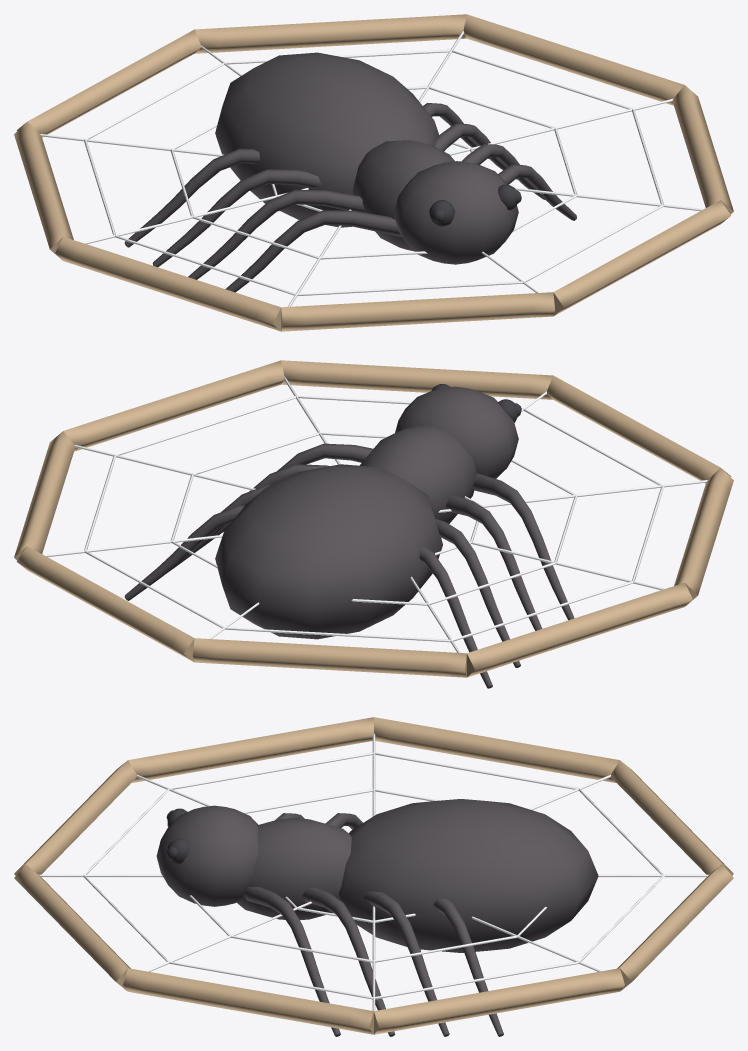
File: reptiles-amphibians-and-minibeasts-orb-weaver-spider-o-b0be5a45__22462.glb
3 views of the same model, one above another, from view 1: azimuth 30°, elevation 25°; view 2: azimuth 150°, elevation 25°; view 3: azimuth 270°, elevation 25° (orthographic). The views are drawn at different scales.
Parts seen in each view (by area): view 1: orb-weaver-spider-on-web-frame; view 2: orb-weaver-spider-on-web-frame; view 3: orb-weaver-spider-on-web-frame.
Part boxes in pixels (x1,y1,x2,y2): orb-weaver-spider-on-web-frame: [14, 14, 733, 331]; orb-weaver-spider-on-web-frame: [14, 360, 733, 688]; orb-weaver-spider-on-web-frame: [14, 717, 733, 1036].
Size of the model in its own units: 0.15 by 0.0324 by 0.15.
